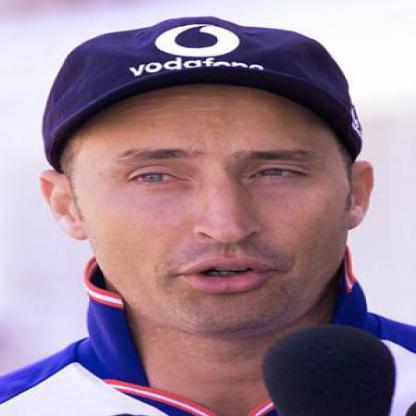face: (76, 28, 353, 344)
